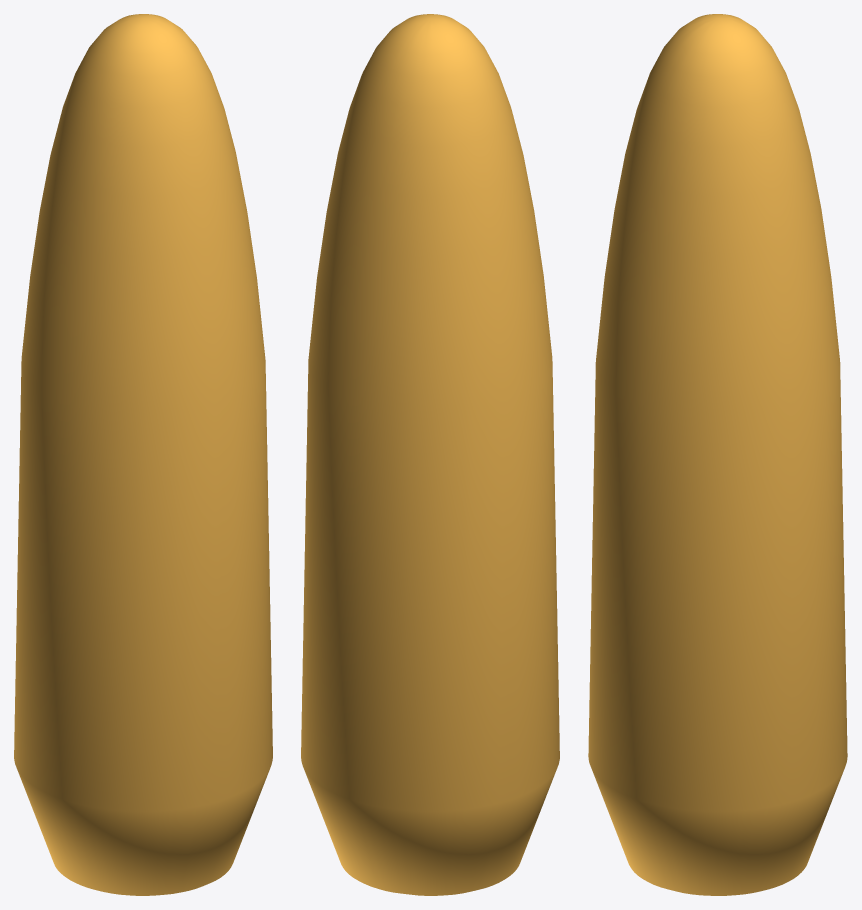
File: bullet.fbx
3 views of the same model, side by side, from view 1: azimuth 30°, elevation 25°; view 2: azimuth 150°, elevation 25°; view 3: azimuth 270°, elevation 25° (orthographic).
Visible parts, largest first — view 1: bullet; view 2: bullet; view 3: bullet.
Part boxes in pixels (x1,y1,x2,y2): bullet: (14,14,272,895); bullet: (301,14,559,895); bullet: (588,14,847,895).
Bounding box in the file's own units: 58.21 × 208 × 58.21.
